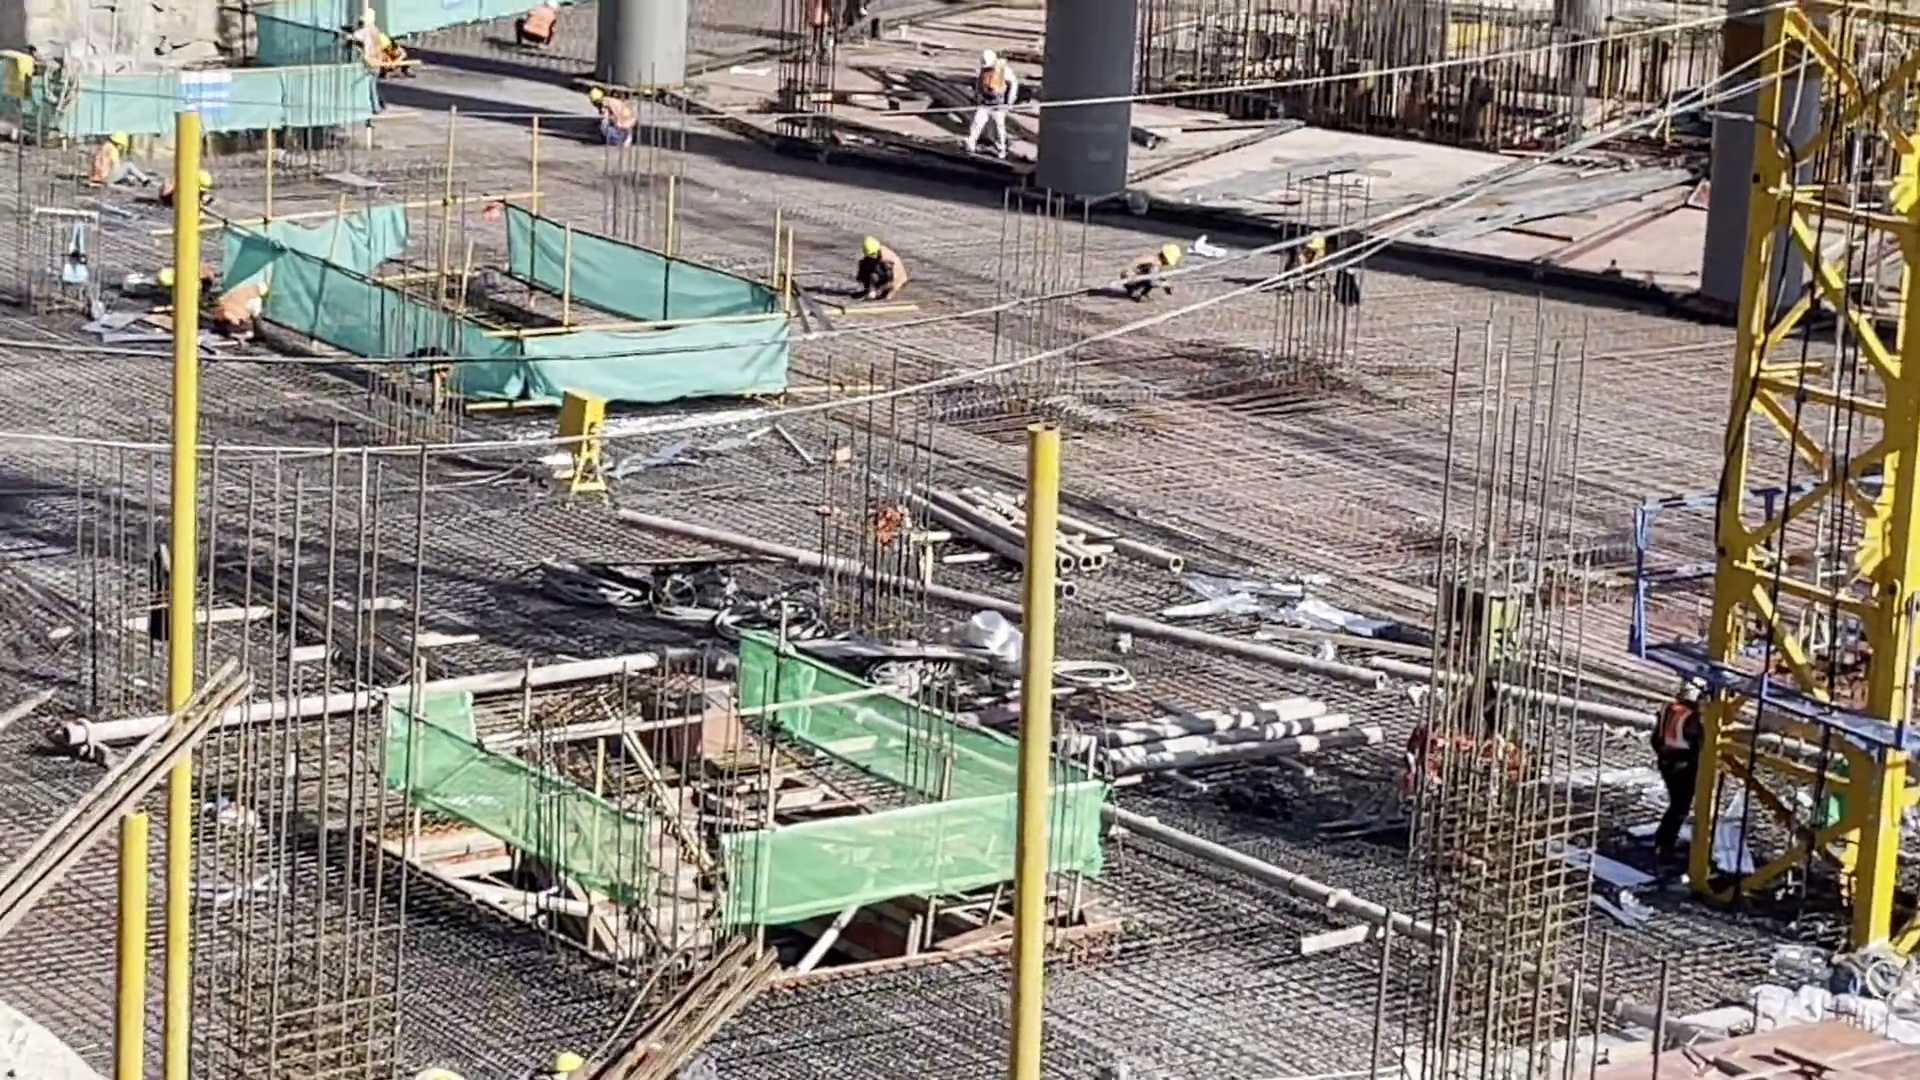ebox: (563, 388, 597, 476), (6, 52, 32, 99)
helmet: (1307, 232, 1327, 251), (861, 236, 880, 254), (1162, 247, 1178, 266), (978, 51, 997, 67), (113, 133, 131, 148)
person: (1658, 681, 1708, 857), (974, 51, 1016, 158), (854, 235, 908, 306), (90, 135, 152, 192), (588, 88, 636, 150), (1124, 249, 1179, 300), (1282, 233, 1329, 291), (517, 1, 562, 47)
slogan: (181, 73, 235, 116)
vest: (1655, 706, 1701, 756), (870, 249, 905, 295), (219, 287, 252, 323), (602, 96, 636, 129), (525, 3, 555, 34), (975, 69, 1006, 96), (94, 146, 117, 179)
